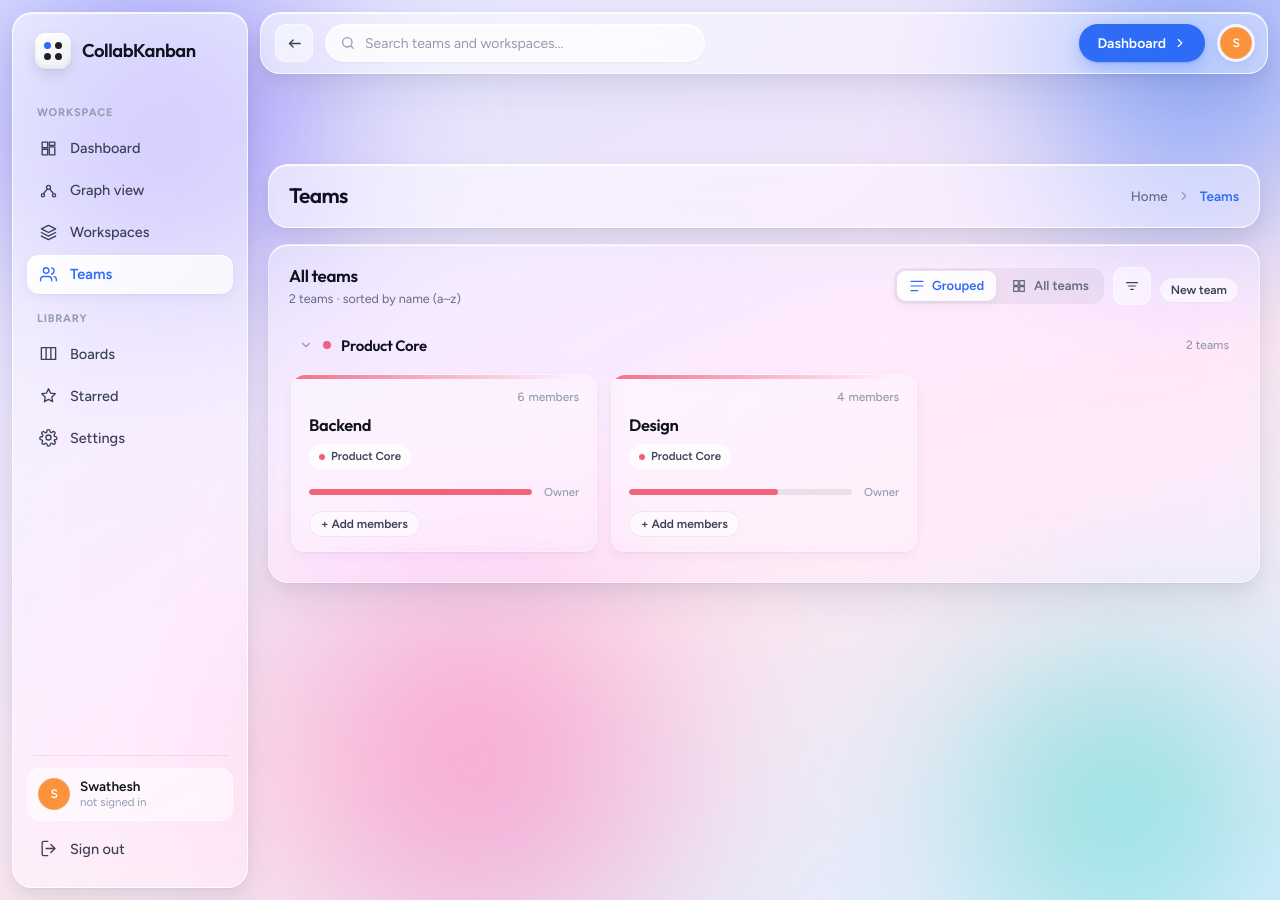
Test: TeamsPage › filters the grid from the top-bar search
expect the heading "Design" is shown: met, box left=629, top=414, right=678, bottom=435
In the field labelled "Search teams": [528, 43] box left=365, top=34, right=690, bottom=52, type "backend"
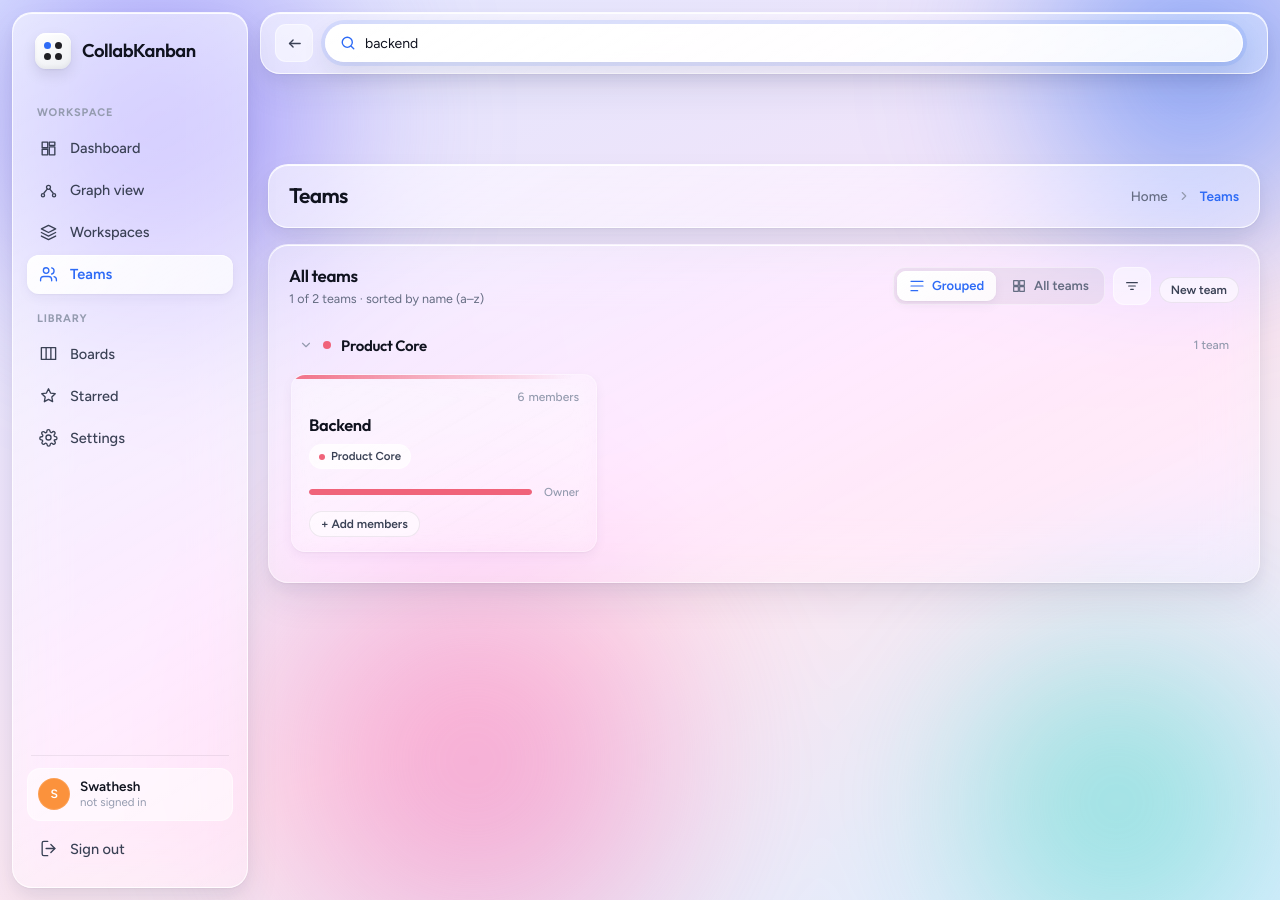
expect the heading "Backend" is shown: met, box left=309, top=414, right=371, bottom=435
expect the heading "Design" is gone: met
